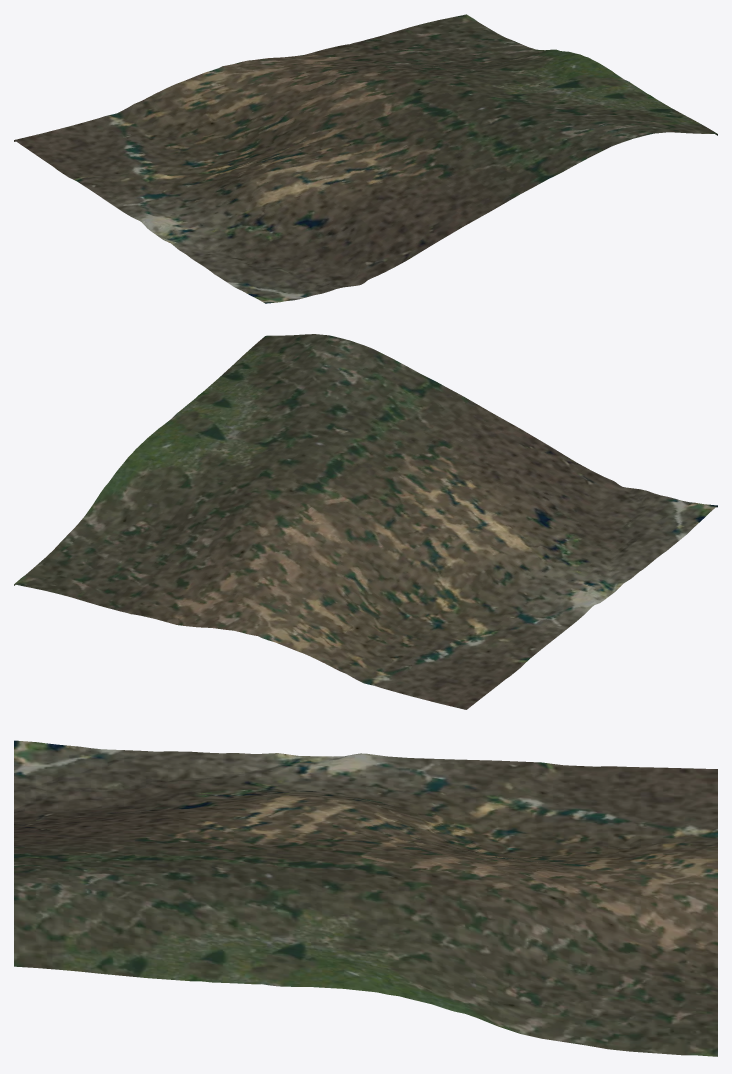
3 views of the same model, one above another, from view 1: azimuth 30°, elevation 25°; view 2: azimuth 150°, elevation 25°; view 3: azimuth 270°, elevation 25° (orthographic). The views are drawn at different scales.
Bounding box in the file's own units: 250 × 51.7 × 241.
Materials: 1 (1 with a texture image).
